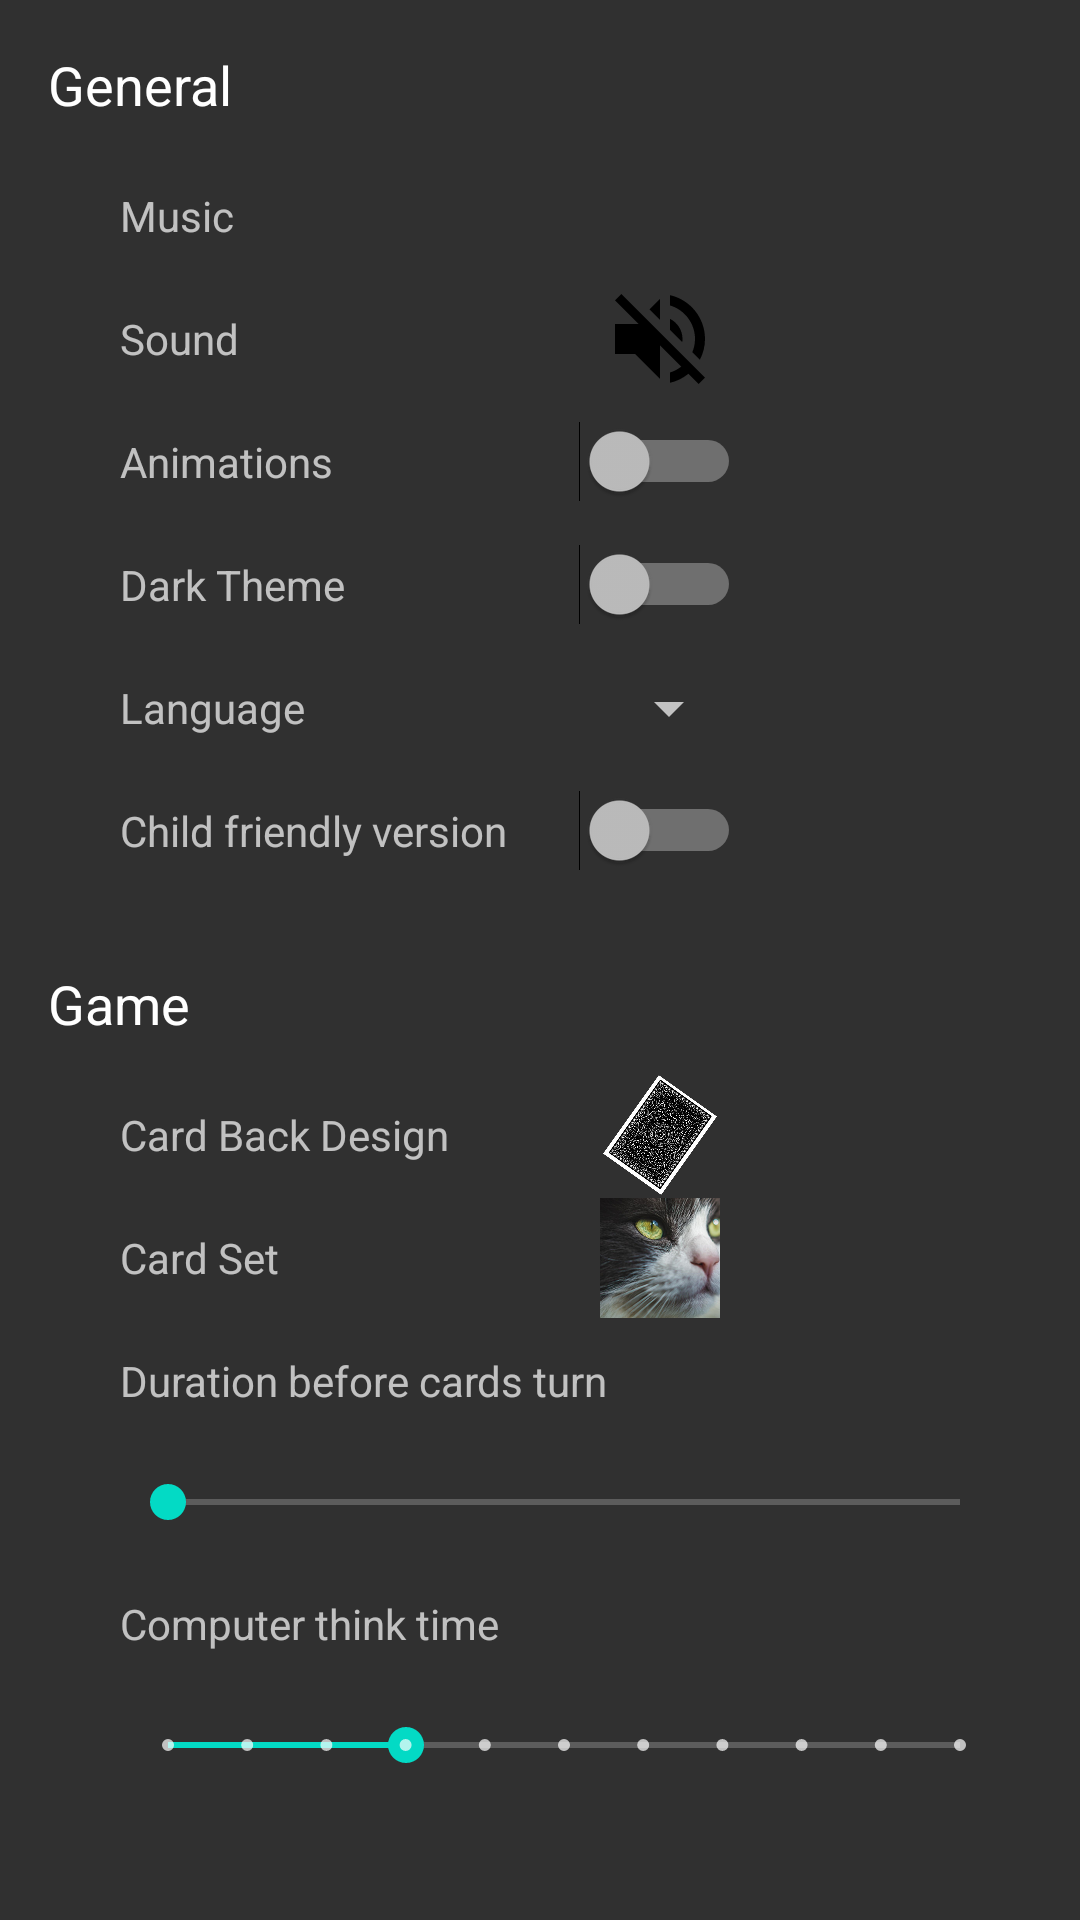

Where icons sit on this 1080 x 1920 app screen, as (x1=x1, y1=y1, x2=x2, y2=y2):
card back: (x1=603, y1=1075, x2=717, y2=1195)
cat: (x1=600, y1=1198, x2=720, y2=1318)
volume off: (x1=615, y1=294, x2=705, y2=384)
